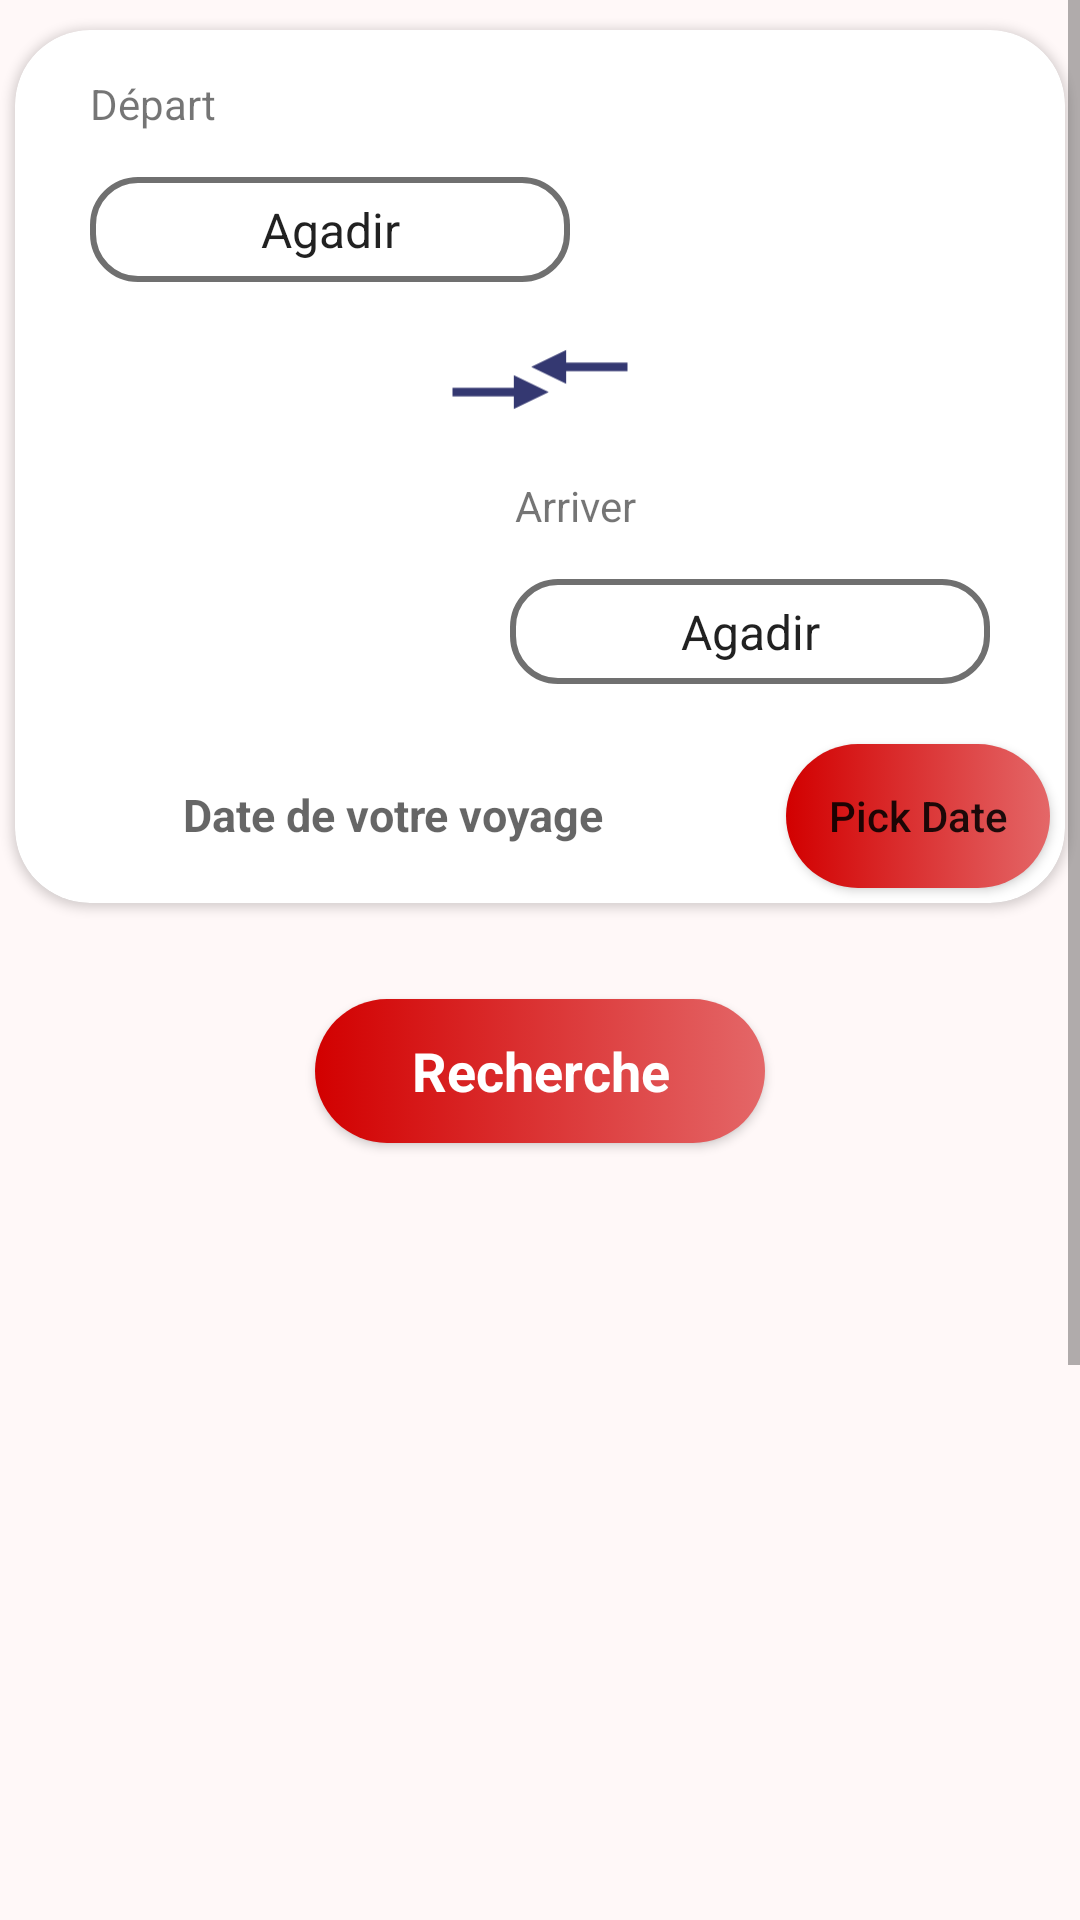

Locate icon controls on the screen. Image size 1080*1920, boxes as [left=x1, top=y1, right=x2, bottom=y2].
direction arrows: [left=452, top=350, right=628, bottom=409]
